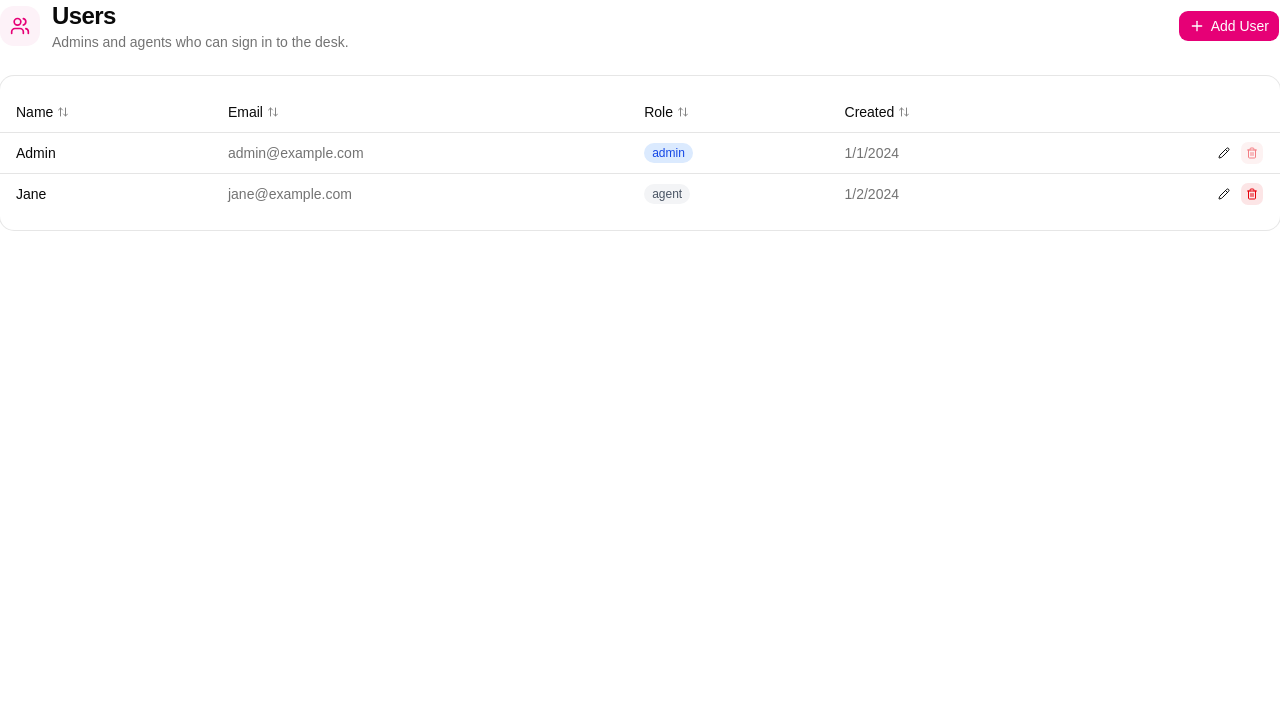
Test case: Users page › edit › opens the edit dialog pre-populated when edit is clicked
This screenshot has width=1280, height=720.
Expected: the text "Jane" is shown, [16,186,46,202]
Click the button named "edit user" in the row of "jane@example.com".
click(1224, 194)  # box [1212,182,1236,206]
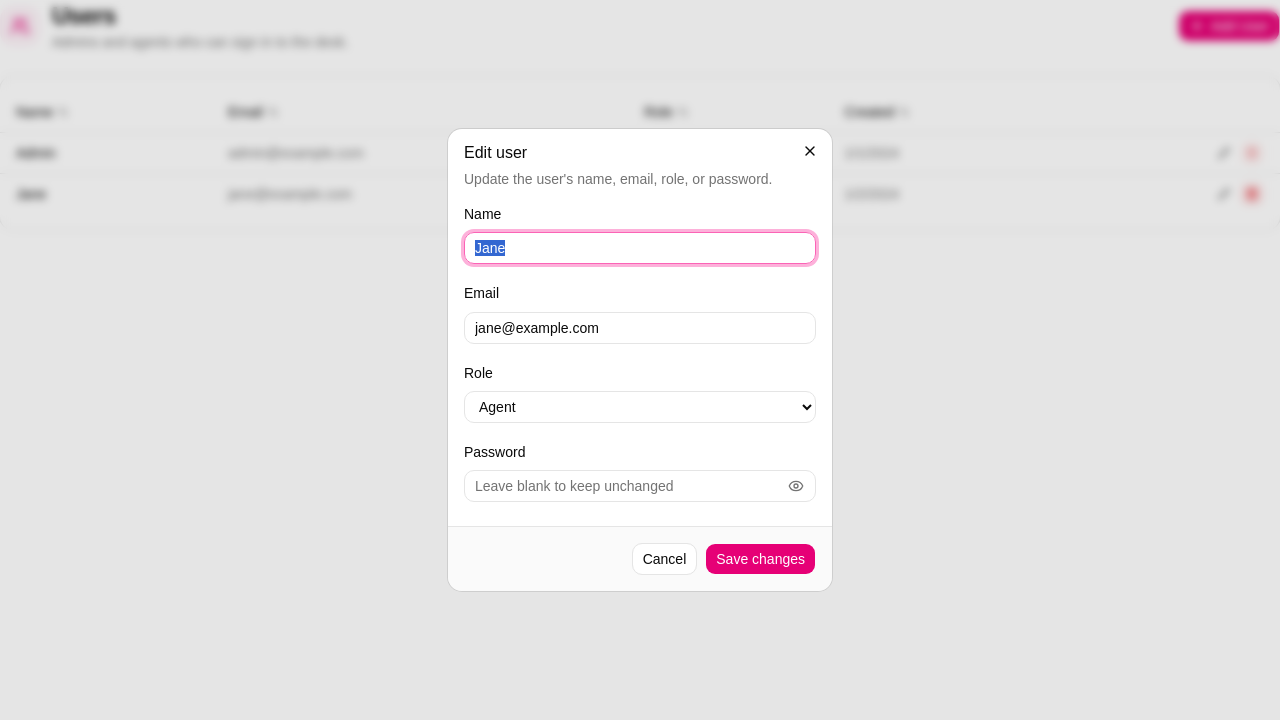
Now the dialog is shown, box [448,129,832,591]
Now the field labelled "Name" holds "Jane", box [464,232,816,264]
